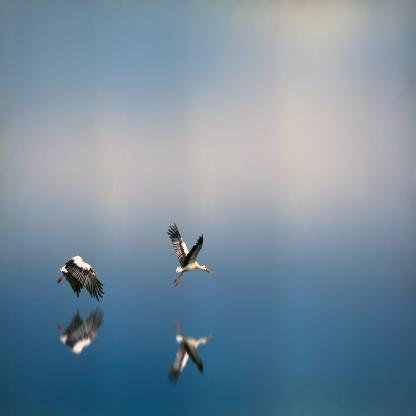bird: (166, 222, 212, 288), (58, 255, 106, 304)
